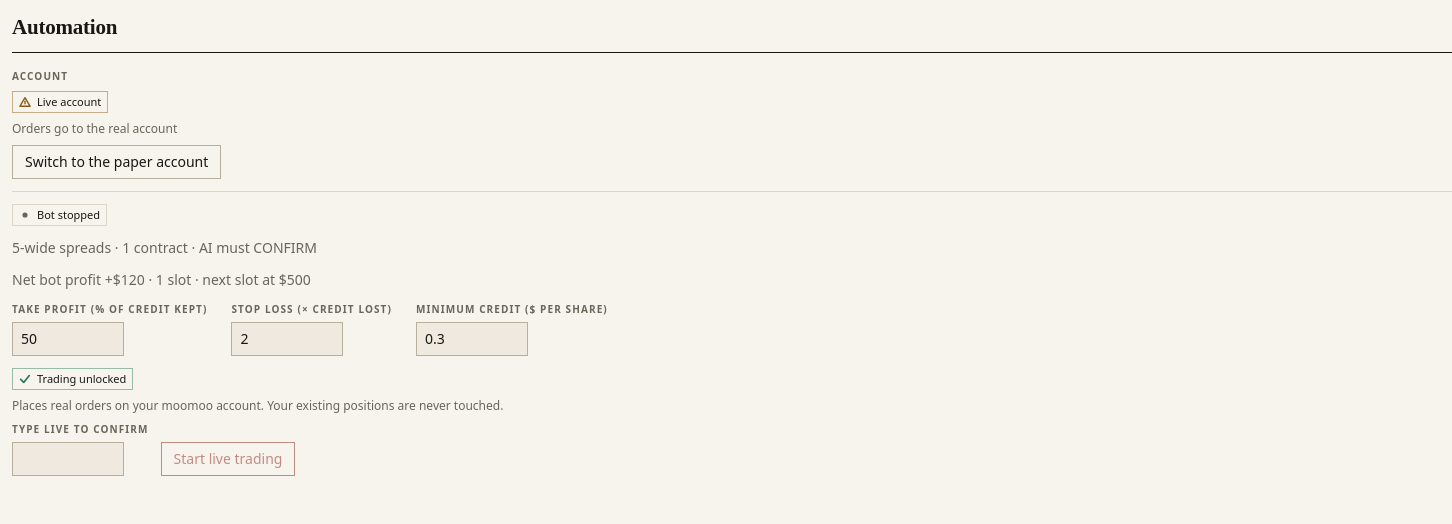
AutomationPanel on the live account › surfaces a refused switch back to paper instead of pretending it worked
The width and height of the screenshot is (1452, 524).
Click the button "Switch to the paper account". click: (117, 162)
box: [12, 145, 221, 179]
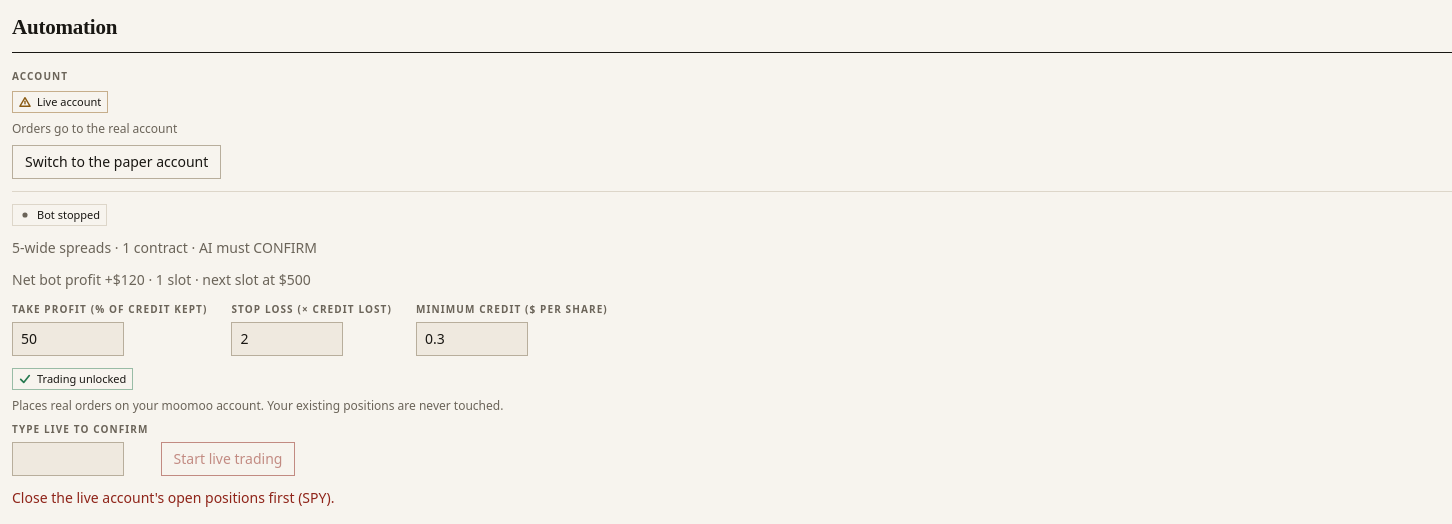
Check: the text "Close the live account's open positions first (SPY)." is shown, box [12, 488, 334, 507]
